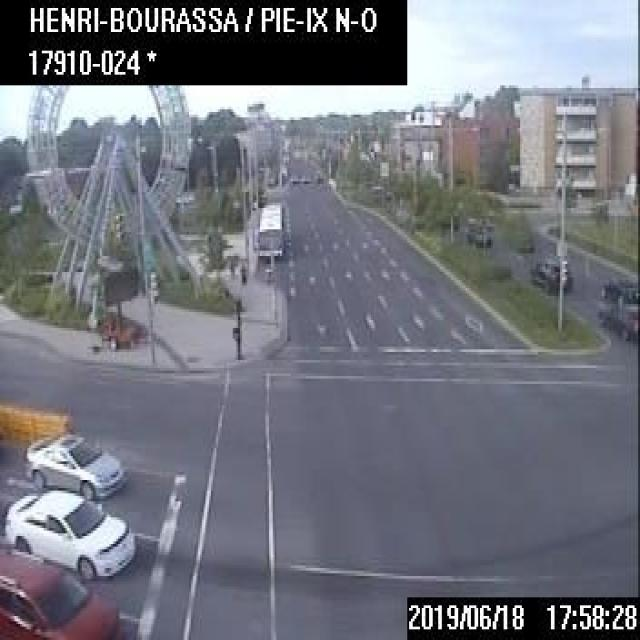bus: (256, 202, 282, 258)
construction: (99, 268, 136, 348)
vehicle: (3, 487, 134, 577), (0, 546, 116, 637), (23, 433, 124, 497), (593, 270, 638, 342), (529, 253, 573, 291), (465, 216, 491, 245)
